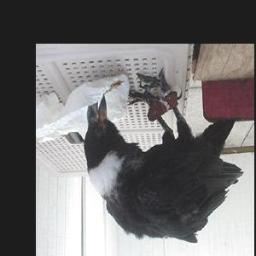Crow: (81, 68, 244, 245)
